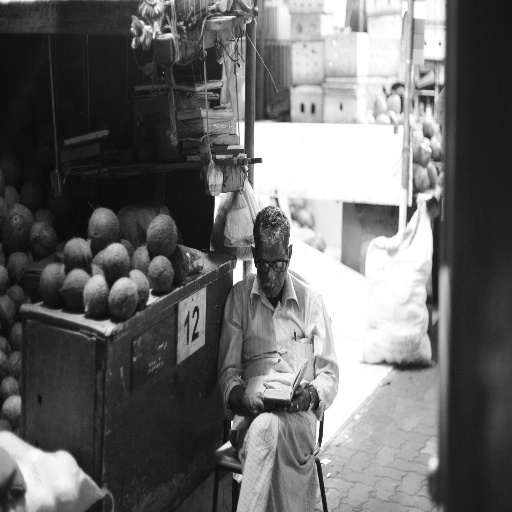hand: (244, 390, 278, 418), (287, 382, 309, 411)
